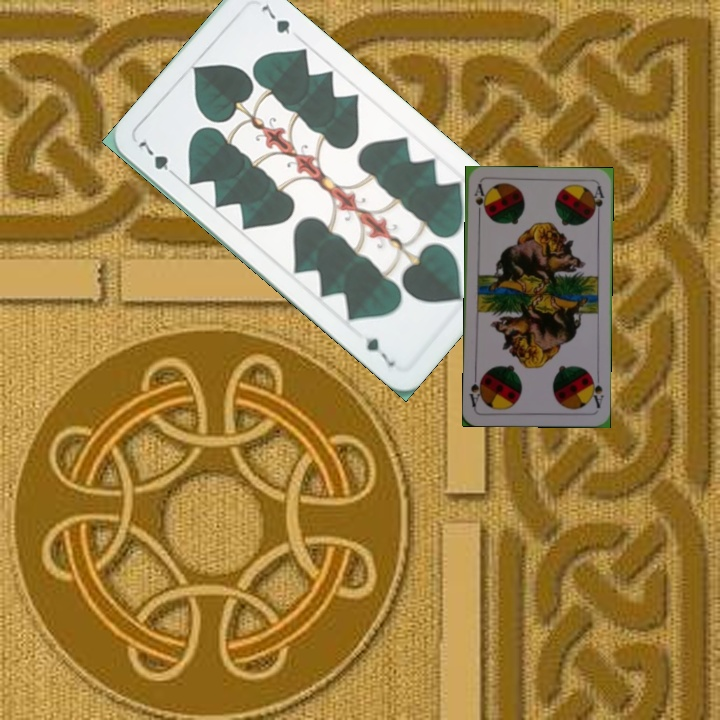G7: (134, 137, 182, 182)
SA: (586, 371, 606, 411), (470, 181, 488, 221)
